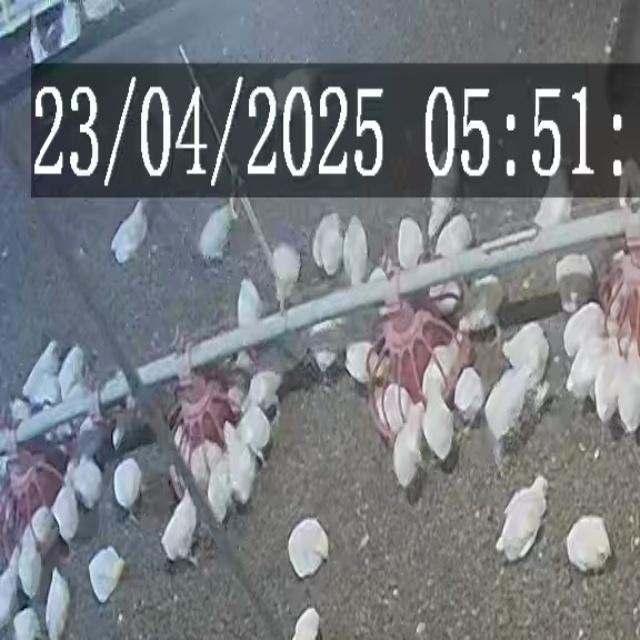chicken: (462, 311, 506, 403), (486, 369, 530, 456), (502, 323, 548, 391), (247, 341, 297, 399), (21, 340, 63, 408), (160, 493, 198, 566), (287, 518, 330, 580), (394, 402, 423, 492), (565, 339, 605, 400), (614, 337, 640, 430), (273, 68, 319, 120), (87, 546, 126, 605), (498, 506, 539, 562), (68, 452, 104, 515), (186, 439, 222, 502), (426, 158, 457, 231), (196, 205, 235, 263), (427, 388, 456, 466), (237, 403, 274, 464), (341, 212, 369, 292), (111, 202, 147, 264), (588, 345, 619, 417), (461, 281, 502, 335), (226, 434, 257, 504), (504, 477, 551, 523), (538, 170, 574, 230), (206, 454, 235, 526), (243, 369, 282, 420), (570, 518, 606, 573), (448, 369, 481, 427), (56, 344, 88, 403), (551, 259, 590, 307), (308, 314, 340, 372), (17, 532, 44, 600), (44, 569, 72, 634), (113, 457, 143, 517), (51, 482, 80, 544), (270, 246, 300, 305), (343, 341, 384, 382), (563, 306, 603, 348), (0, 553, 22, 629), (435, 216, 468, 266), (396, 216, 425, 271), (29, 506, 59, 558), (429, 337, 459, 388), (312, 217, 338, 275), (368, 388, 411, 423), (98, 372, 131, 415), (236, 278, 263, 330), (431, 280, 464, 318), (615, 157, 640, 204), (606, 290, 629, 341), (12, 606, 42, 640), (290, 608, 322, 638), (367, 268, 389, 311), (9, 397, 31, 430), (227, 384, 245, 415)
